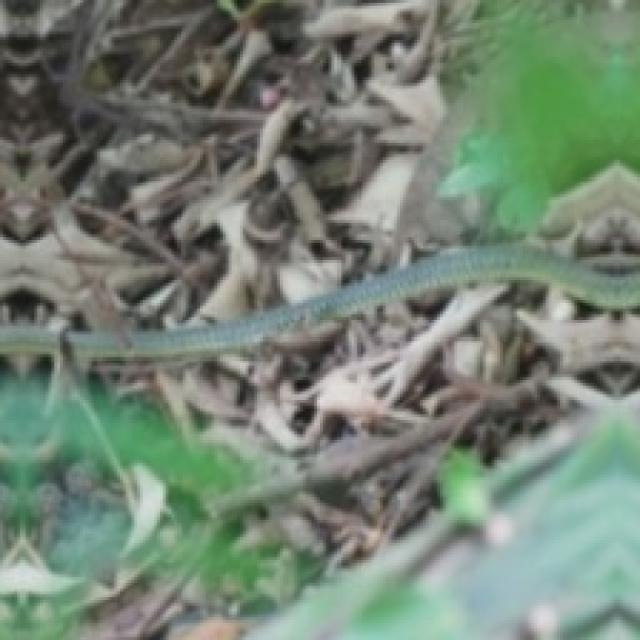paradise tree snake: (69, 246, 637, 366), (69, 246, 637, 360)
